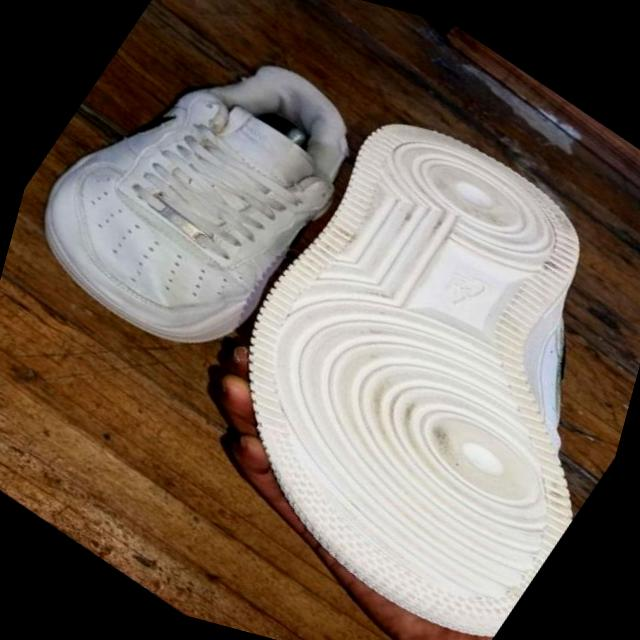nike_fake_airforce: (0, 0, 409, 408)
